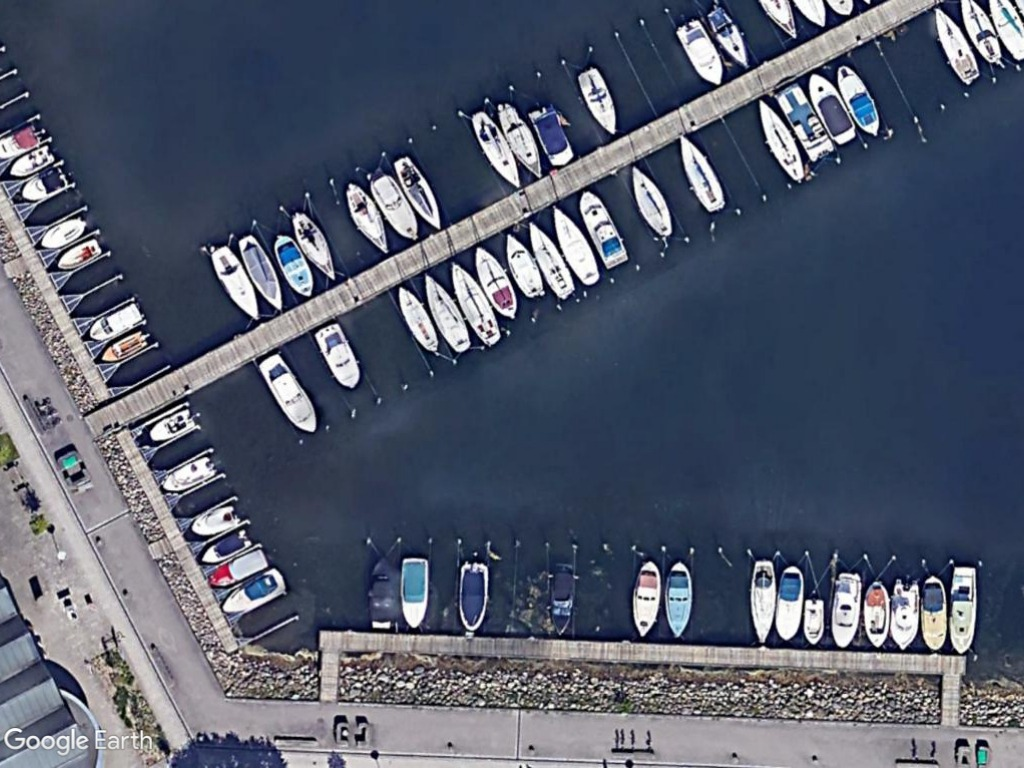boat: (257, 347, 323, 442), (446, 254, 507, 354), (670, 125, 731, 218), (464, 106, 525, 194), (416, 268, 476, 357), (574, 184, 632, 275), (752, 95, 809, 186), (387, 149, 448, 234), (548, 199, 603, 293), (338, 174, 396, 263), (491, 96, 547, 188), (206, 240, 265, 327), (927, 3, 985, 90), (522, 212, 577, 303), (673, 12, 732, 94), (365, 171, 425, 250), (467, 242, 524, 325), (285, 205, 342, 287), (235, 229, 288, 317), (217, 560, 289, 623), (803, 69, 860, 148), (625, 163, 678, 246), (391, 279, 444, 361), (310, 318, 367, 394), (499, 226, 552, 306), (568, 61, 621, 140), (943, 558, 984, 658), (837, 60, 884, 144), (704, 2, 758, 75), (268, 228, 319, 304), (822, 566, 866, 653), (202, 543, 274, 592), (154, 448, 223, 498), (625, 556, 664, 643), (884, 574, 925, 656), (957, 0, 1005, 70), (771, 560, 808, 650), (745, 555, 780, 649), (395, 550, 434, 633), (453, 557, 492, 638), (661, 556, 696, 645), (84, 297, 146, 347), (918, 569, 952, 656), (96, 322, 155, 371), (195, 521, 253, 570), (142, 402, 201, 449), (14, 160, 72, 205), (186, 498, 245, 542), (33, 209, 90, 254), (5, 137, 60, 182), (863, 572, 892, 654), (52, 233, 105, 276), (800, 595, 830, 651)
